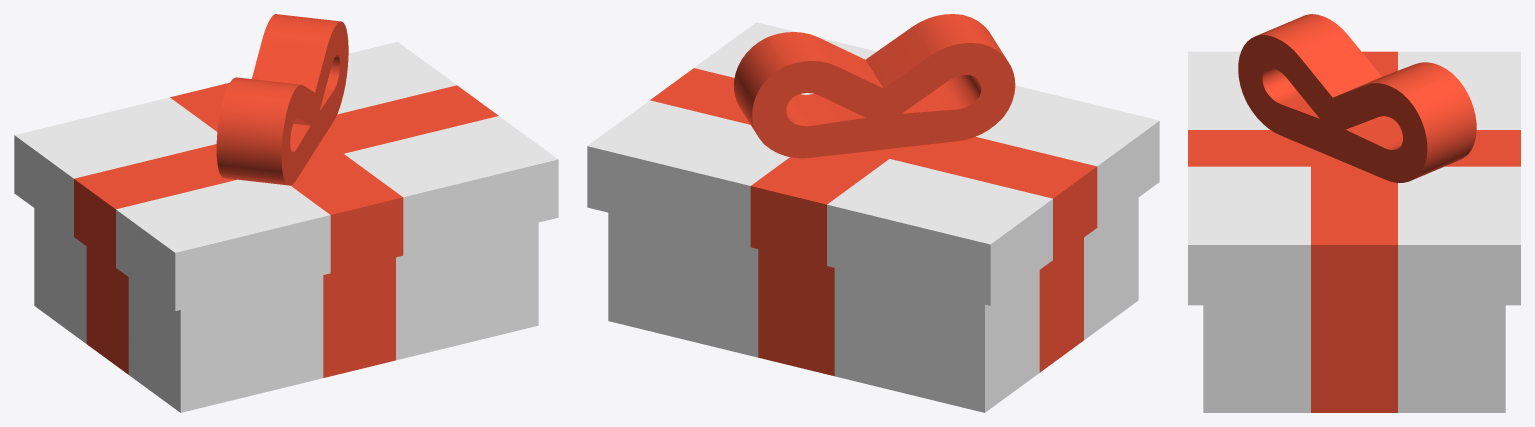
Rendered from presentLow.fbx.
The picture shows the model from 3 angles, left to right: view 1: azimuth 30°, elevation 25°; view 2: azimuth 150°, elevation 25°; view 3: azimuth 270°, elevation 25°; orthographic projection. The views are drawn at different scales.
Parts seen in each view (by area): view 1: lid, presentLow; view 2: lid, presentLow; view 3: lid, presentLow.
Boxes of the visible parts, box(x1,y1,x2,y2) form: lid: box(14, 14, 558, 310); presentLow: box(34, 208, 538, 412); lid: box(587, 14, 1159, 305); presentLow: box(608, 197, 1138, 412); lid: box(1188, 14, 1520, 305); presentLow: box(1203, 305, 1505, 412).
Bounding box in the file's own units: 5.13 × 3.34 × 3.73.
